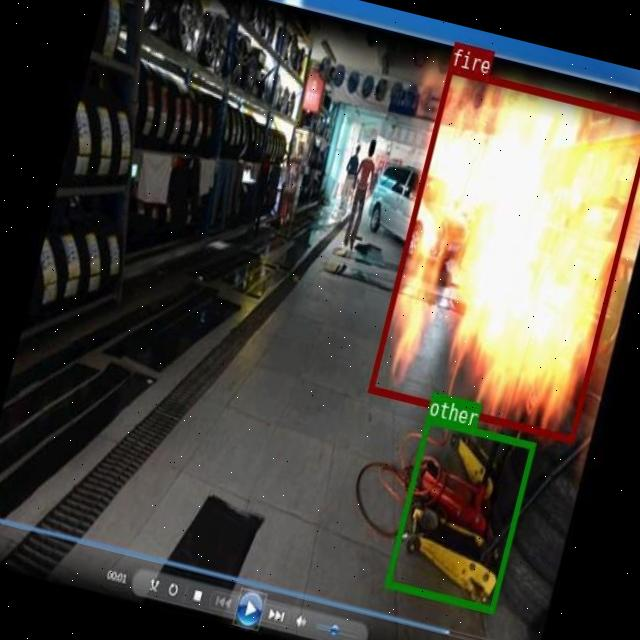fire: (366, 65, 640, 441)
